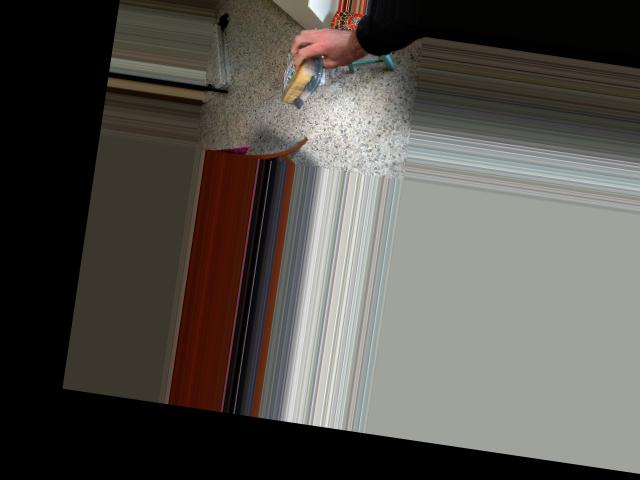cheese: (278, 41, 320, 111)
